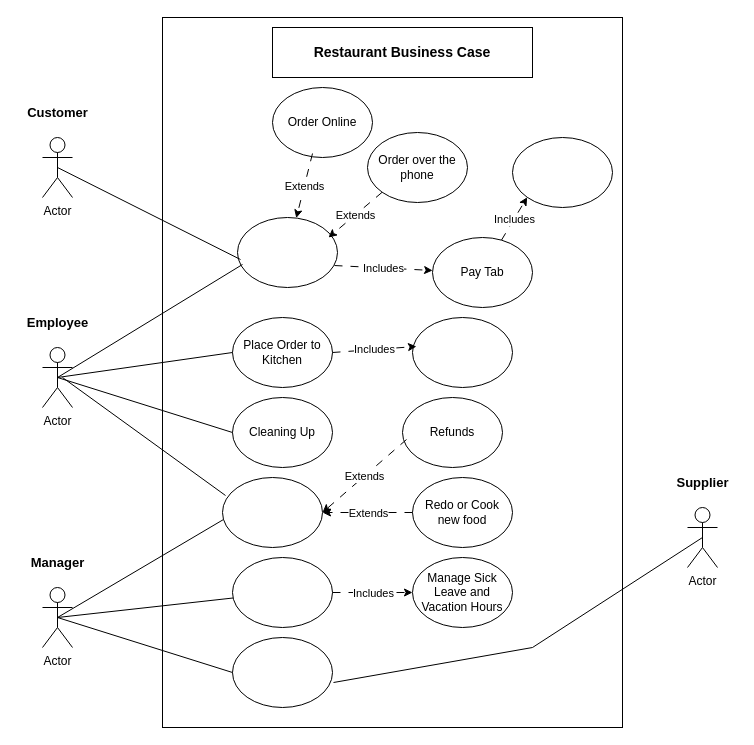
Some shapes in this 754 by 745 pixel diagram are drawn without their labels. The centre of each missing label's shape, as x and y in pixels:
"Calculating Tips" belongs at pixel 562 172.
"Cook Food" belongs at pixel 462 352.
"Handling Complaints" belongs at pixel 272 512.
"Ordering a meal/meals" belongs at pixel 287 252.
"Ordering Supplies" belongs at pixel 282 672.
"Scheduling" belongs at pixel 282 592.
